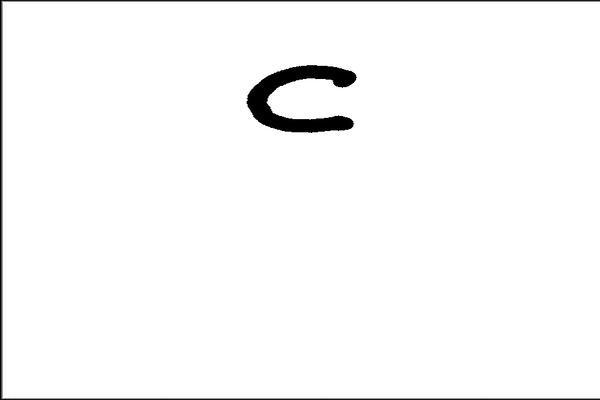C: (238, 56, 359, 139)
